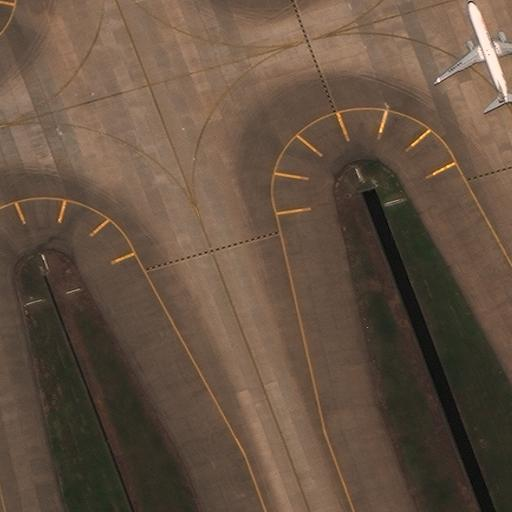Medium Civil Transport: (434, 0, 512, 105)
